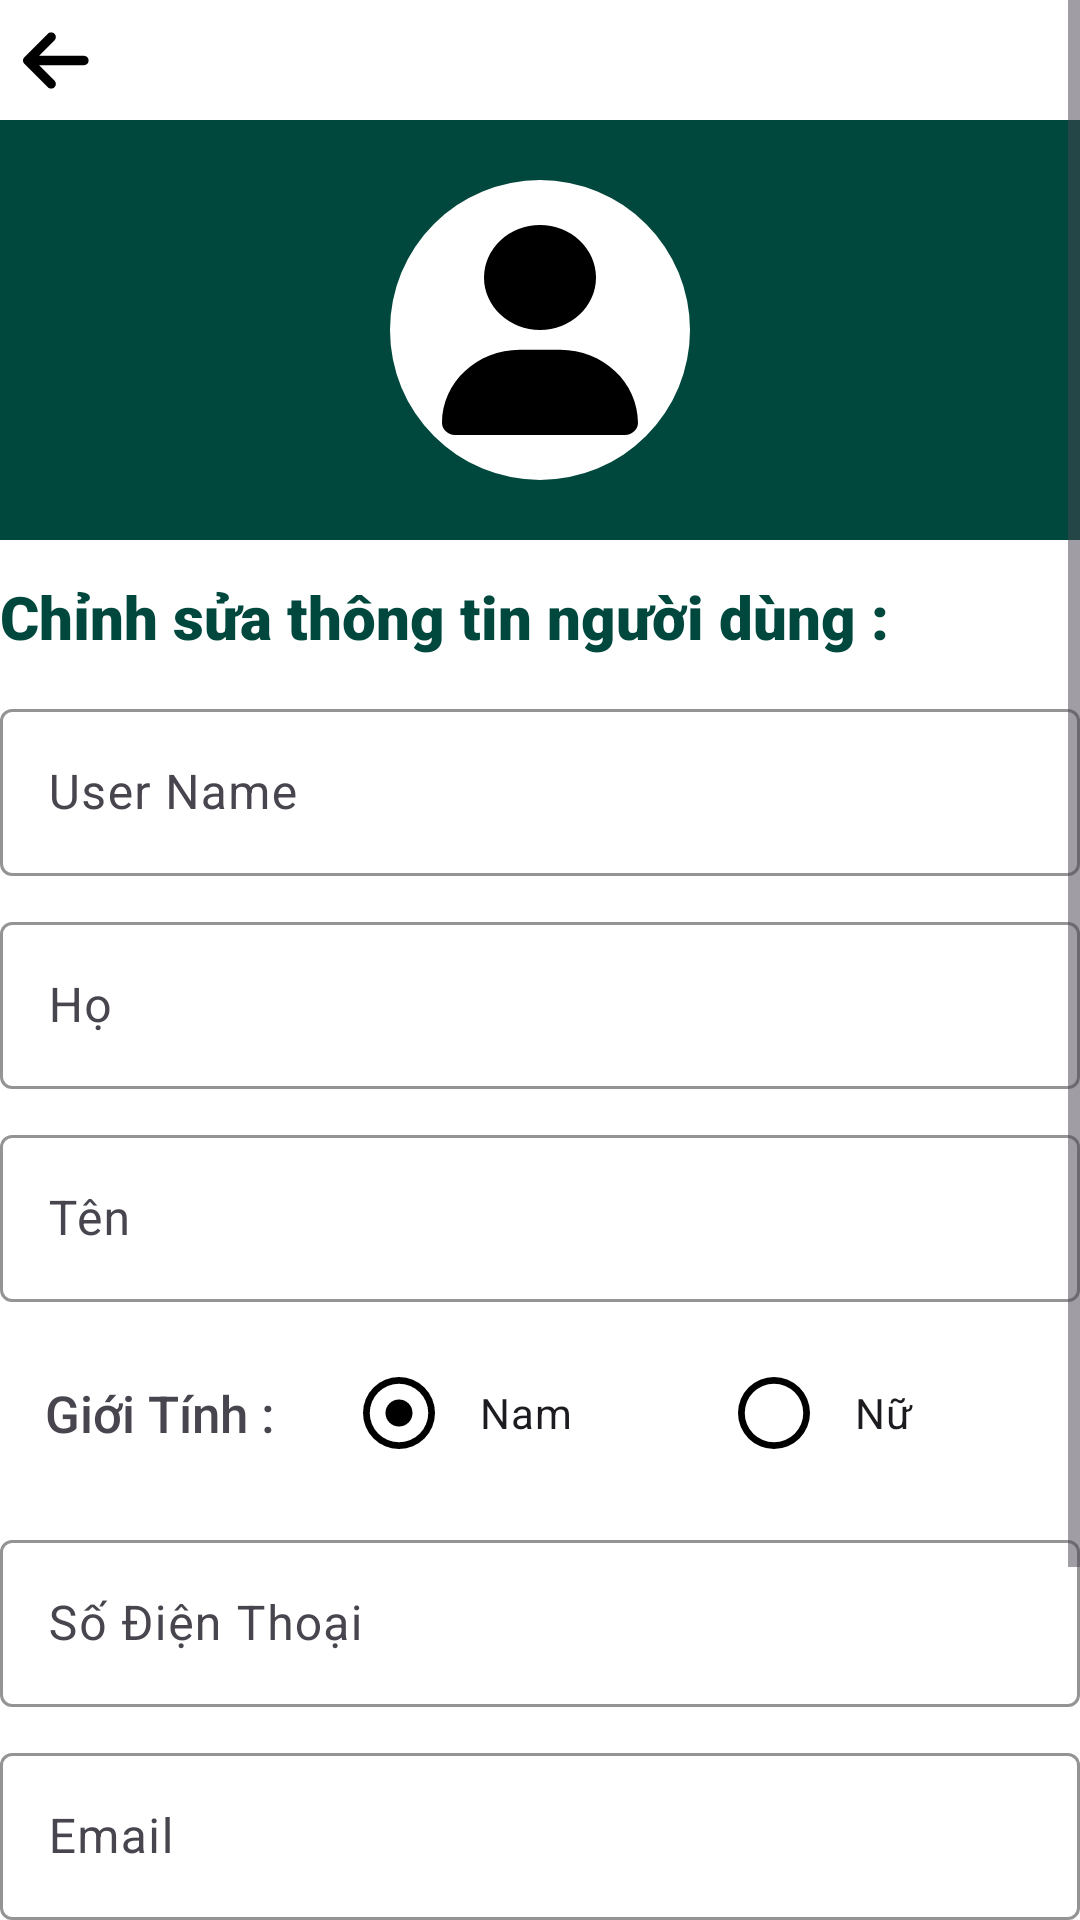

Icons on this 1080 × 1920 Android screen, each with its box as (x1, y1, x2, y2):
Back: (23, 32, 89, 89)
user: (390, 180, 690, 480)
